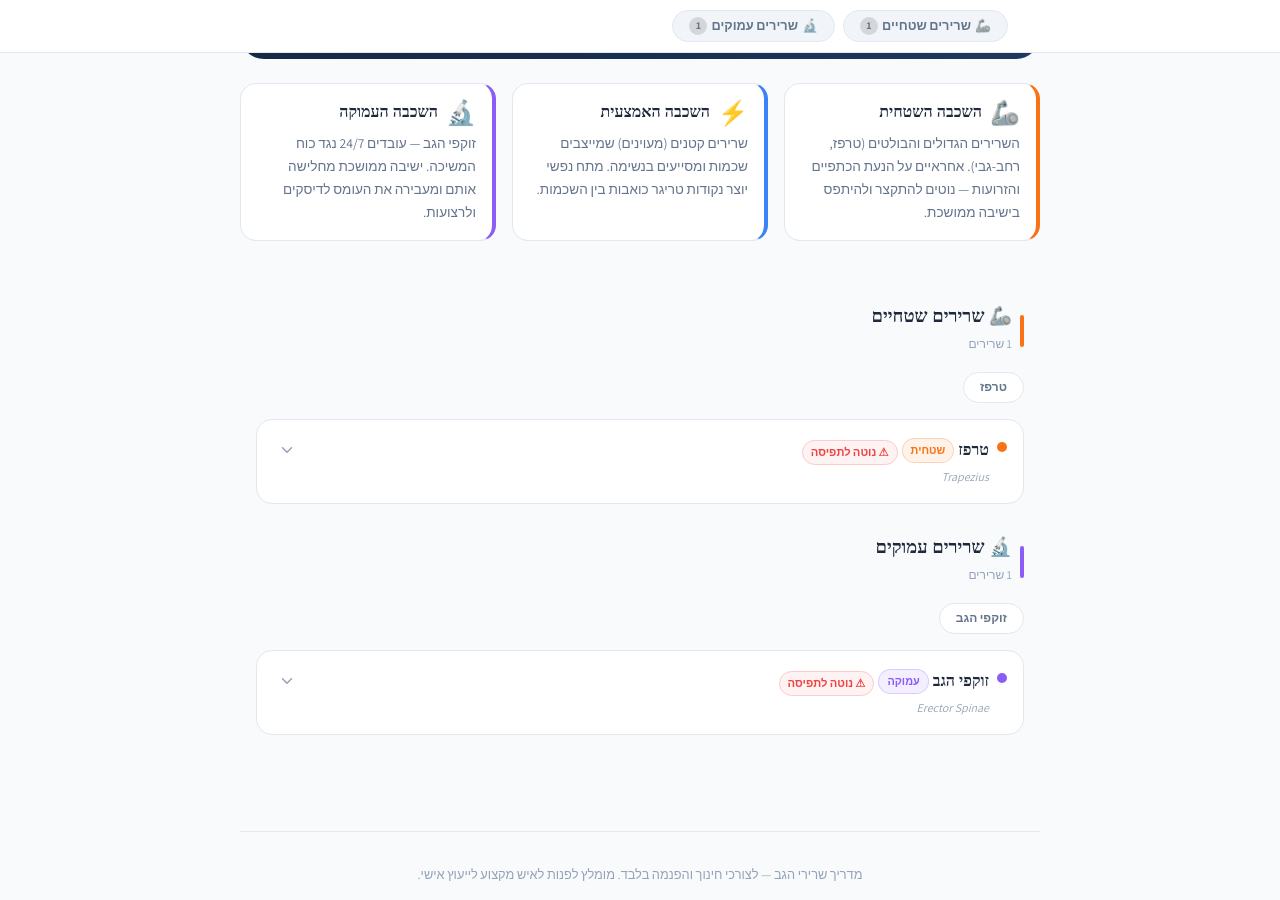
MuscleCard — stretch section › basic stretch duration is displayed
(page scrolled)
Click the heading "טרפז" at coordinates (974, 450), box [958, 440, 989, 461]
(page scrolled)
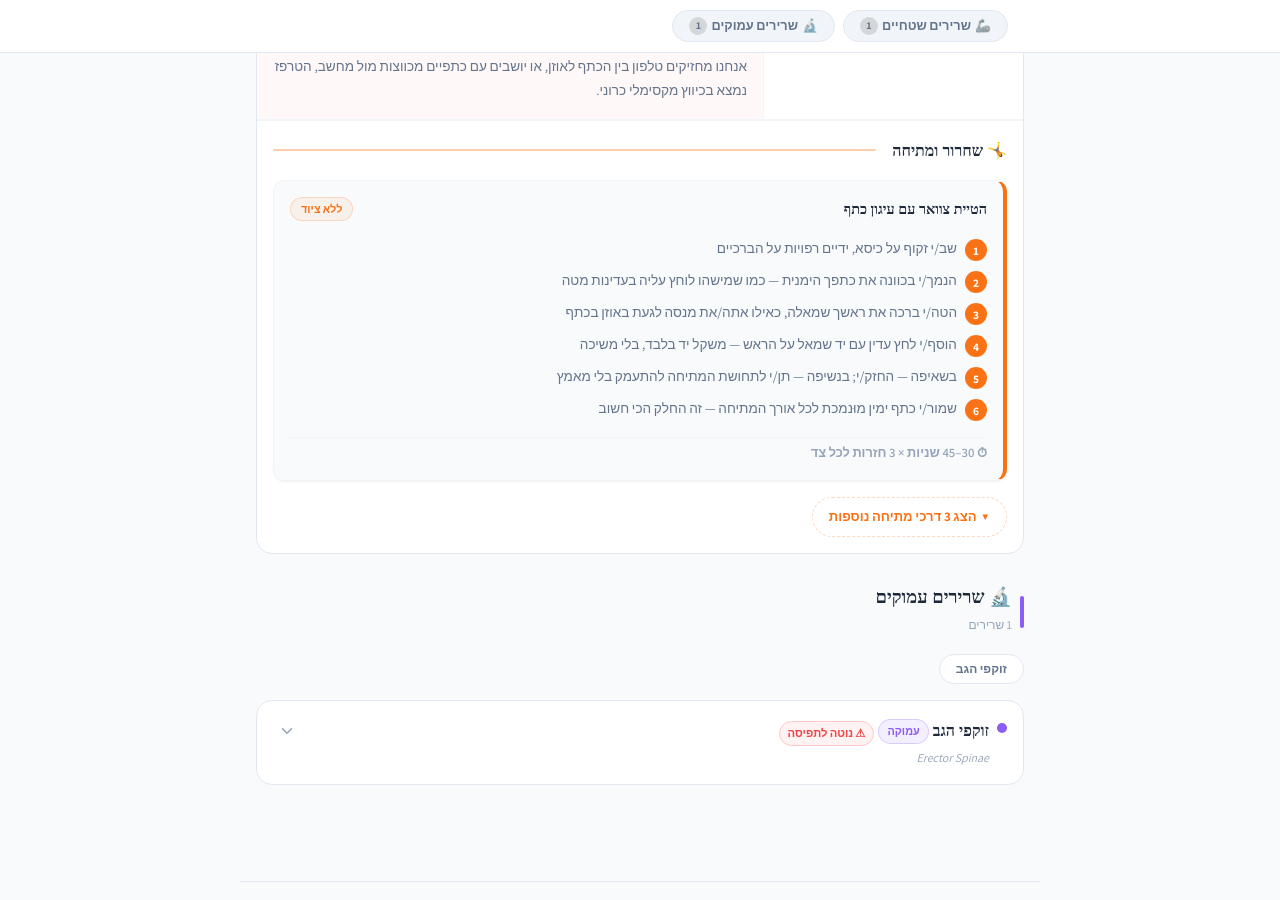
Expected: the text "⏱ 30–45 שניות × 3 חזרות לכל צד" is shown, [290, 437, 987, 464]
